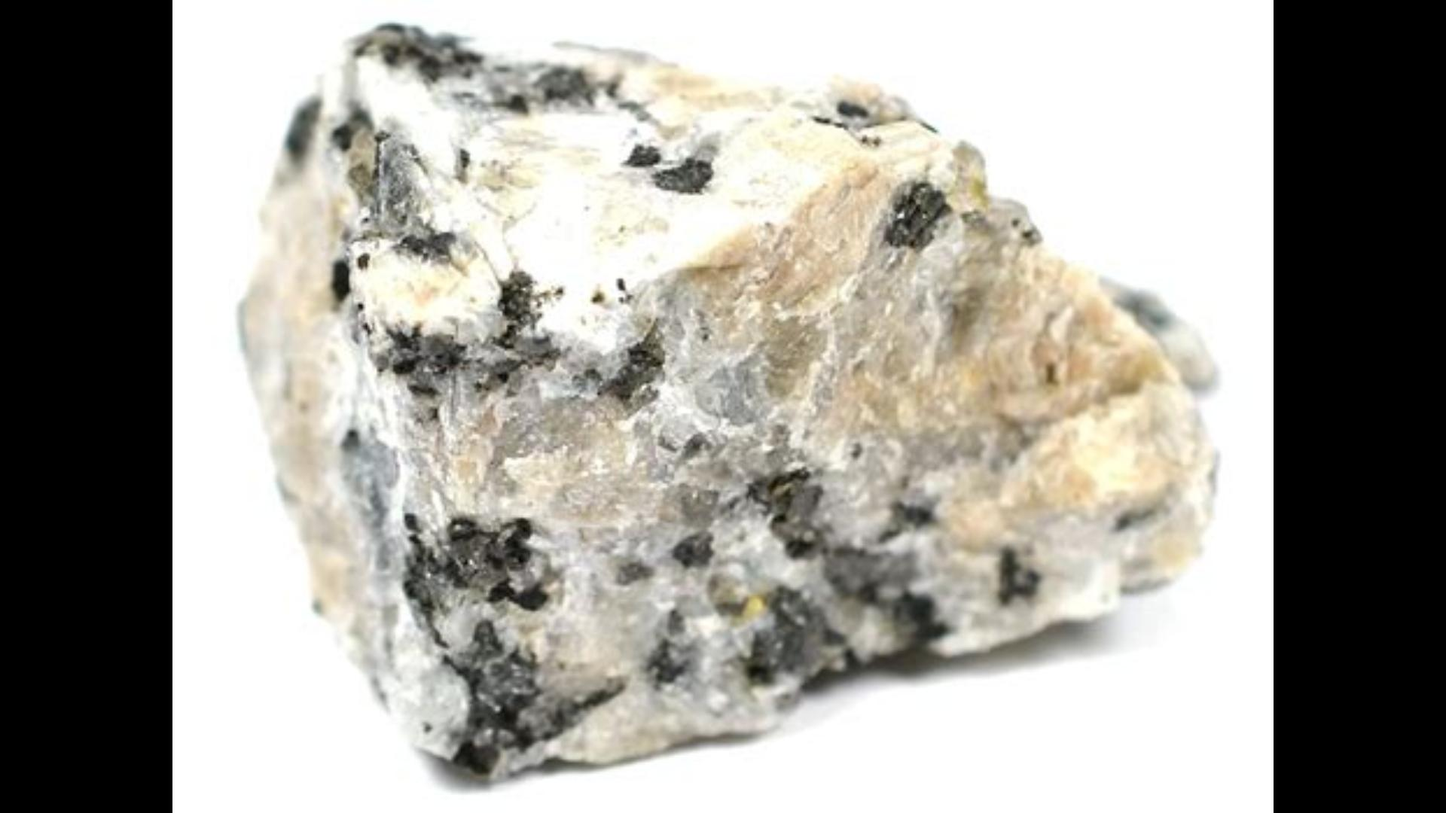rock: (242, 26, 1211, 771)
